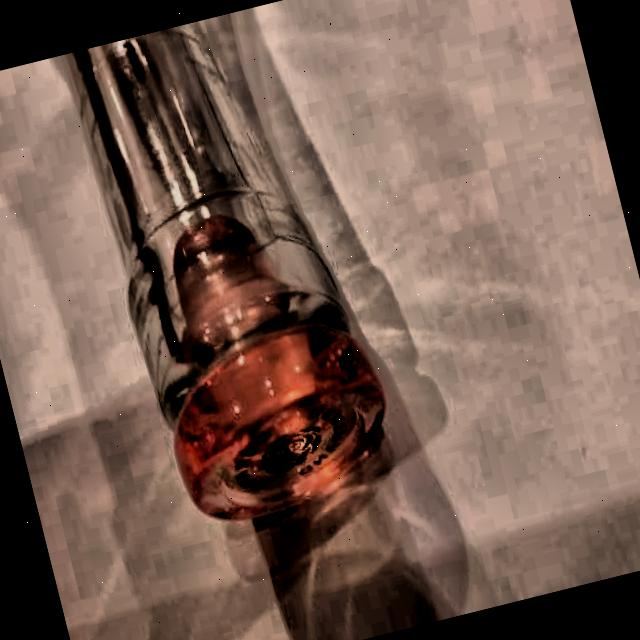glass: (67, 5, 392, 539)
